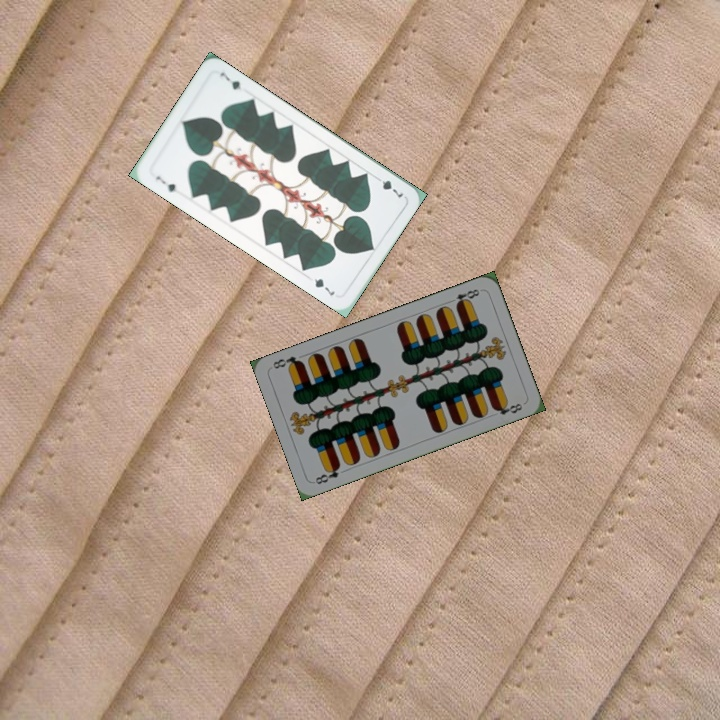E8: (445, 285, 482, 309), (311, 461, 343, 487)
G7: (371, 172, 406, 200), (152, 172, 179, 195)
